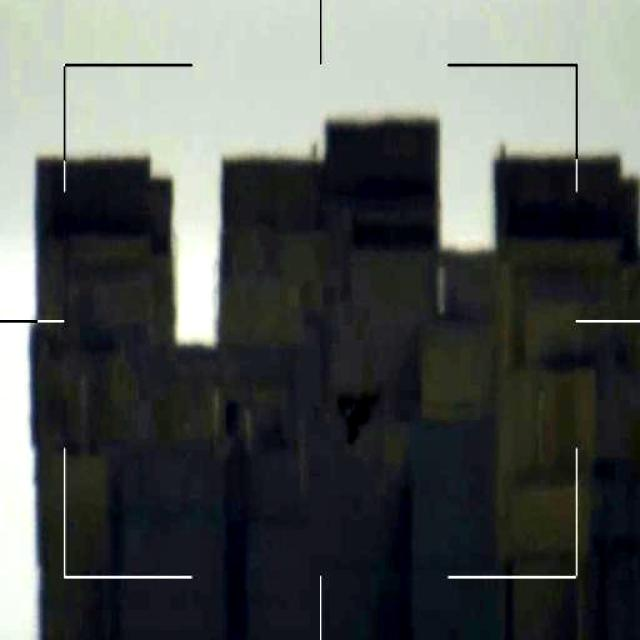bird: (332, 379, 389, 450)
